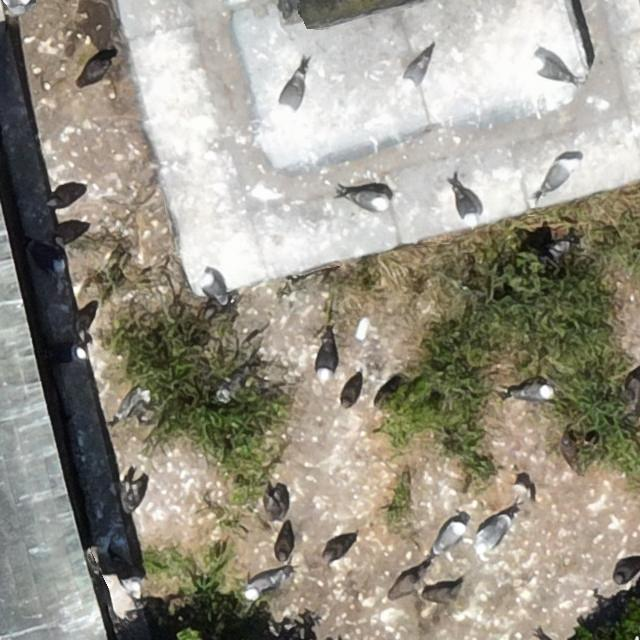umineko: (532, 157, 583, 203), (474, 512, 515, 554), (25, 237, 69, 275), (110, 386, 153, 424), (276, 73, 306, 122), (401, 47, 431, 92), (436, 522, 463, 550), (247, 574, 277, 596), (535, 60, 568, 80), (352, 193, 388, 211), (515, 382, 549, 400), (317, 347, 334, 380)
